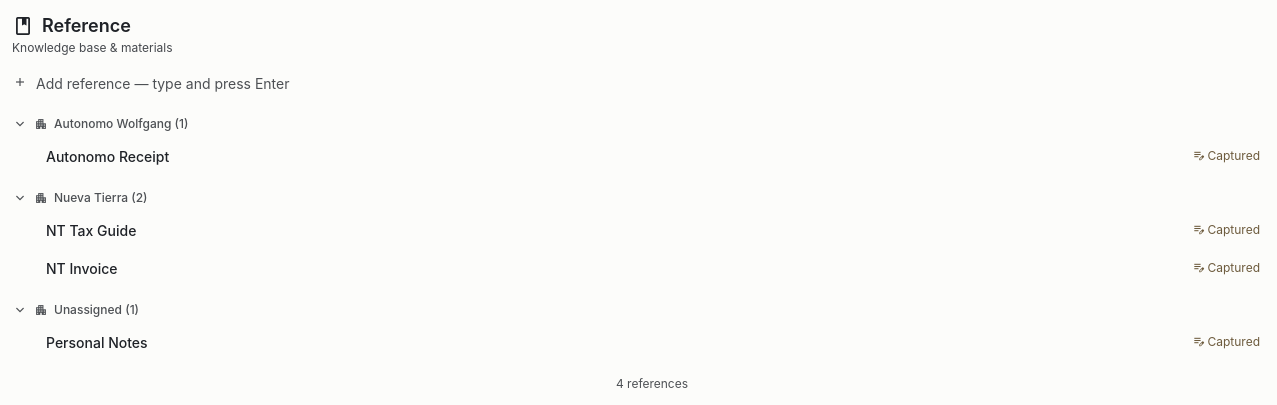
it: ReferenceList › org groups are expanded by default and collapsible
This screenshot has width=1277, height=405.
Expected: the text "NT Tax Guide" is shown, [46, 222, 136, 239]
Expected: the text "NT Invoice" is shown, [46, 260, 118, 277]
// Collapse Nueva Tierra group
Click the button with aria-label "Collapse Nueva Tierra": (80, 198) [12, 186, 148, 210]
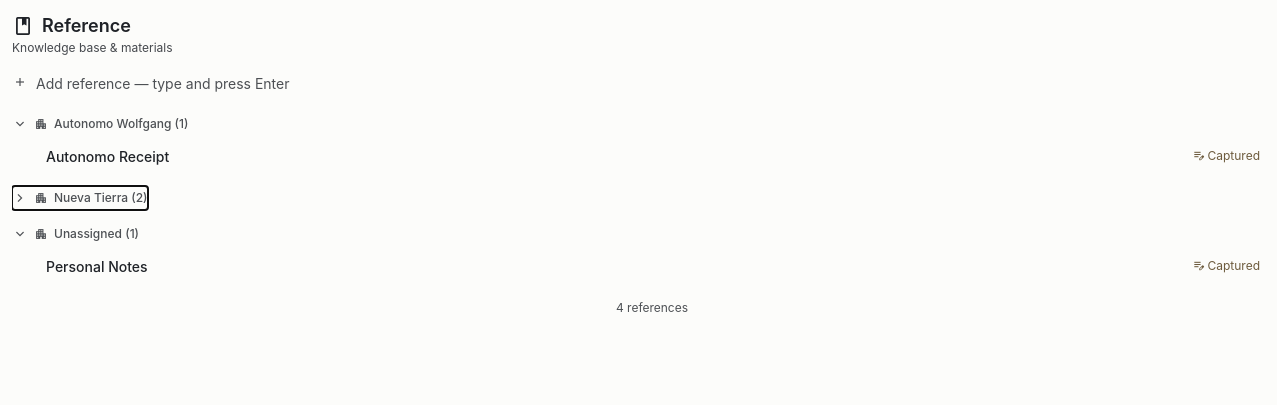
Expected: the text "Autonomo Receipt" is shown, [46, 148, 169, 165]
Expected: the button "NT Tax Guide" is gone
Expected: the button "NT Invoice" is gone
